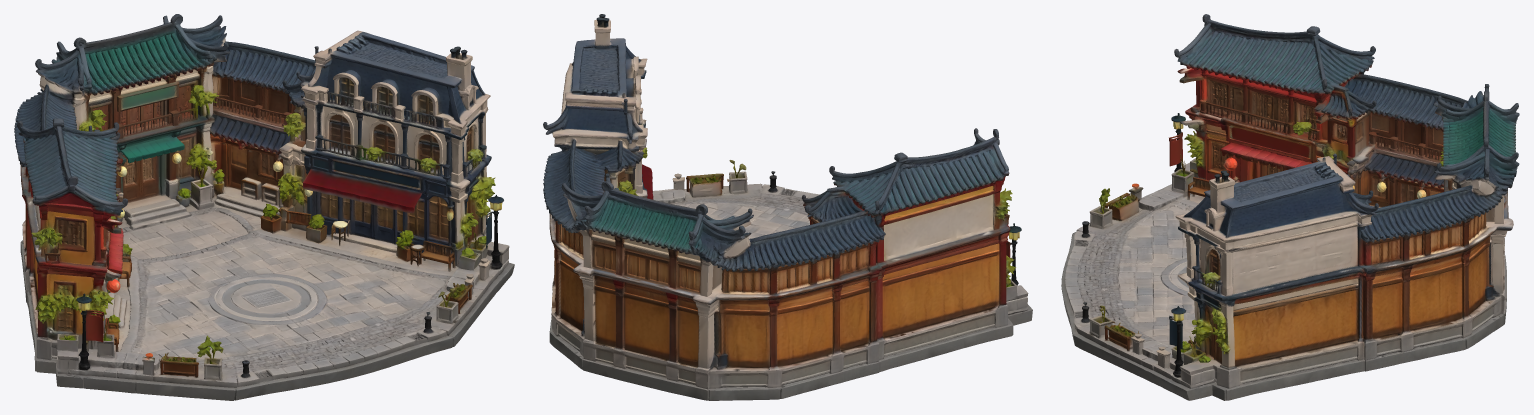
The model's file is restaurant-street-high.glb.
The picture shows the model from 3 angles, left to right: view 1: azimuth 30°, elevation 25°; view 2: azimuth 150°, elevation 25°; view 3: azimuth 270°, elevation 25°; orthographic projection. The views are drawn at different scales.
Visible parts, largest first — view 1: model; view 2: model; view 3: model.
Boxes of the visible parts, box(x1,y1,x2,y2) form: model: box(14, 14, 514, 400); model: box(543, 14, 1032, 400); model: box(1061, 14, 1519, 400).
Size of the model in its own units: 1.9 by 0.8749 by 1.72.
Materials: 1 (1 with a texture image).
